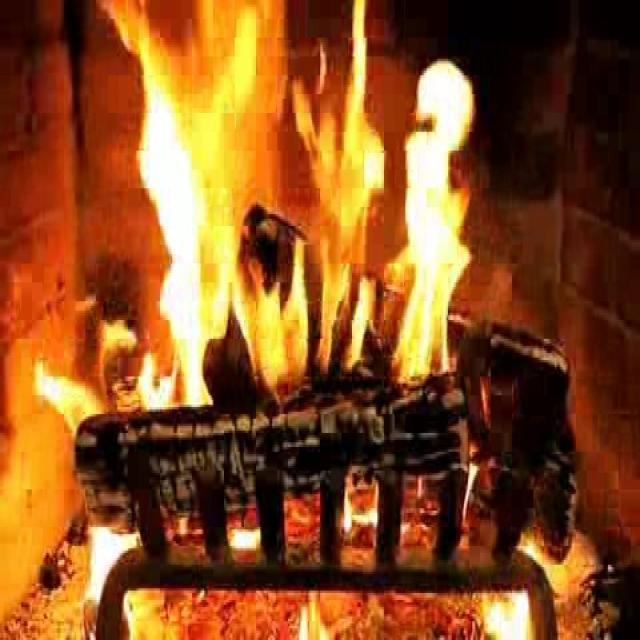Fire: (105, 0, 502, 447)
